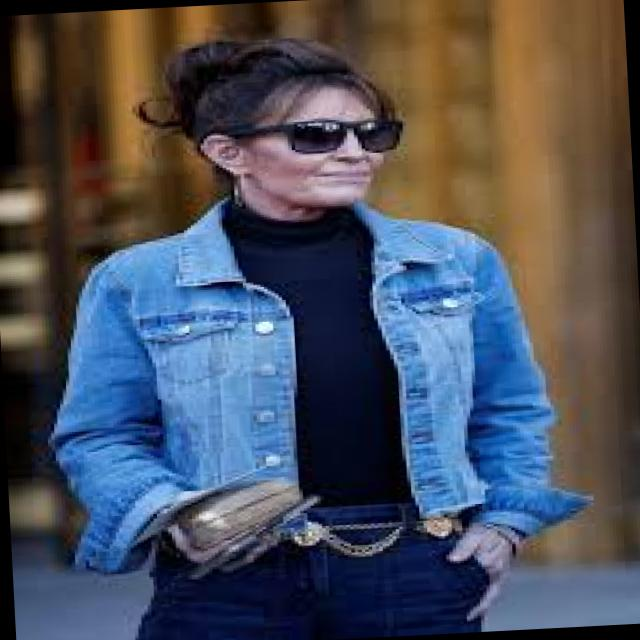Jacket: (26, 174, 608, 588)
